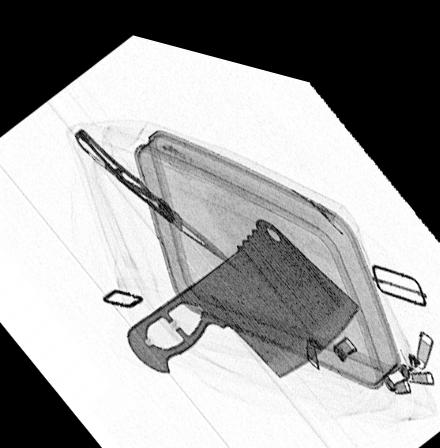Knife: (126, 203, 361, 363), (73, 122, 242, 260)
